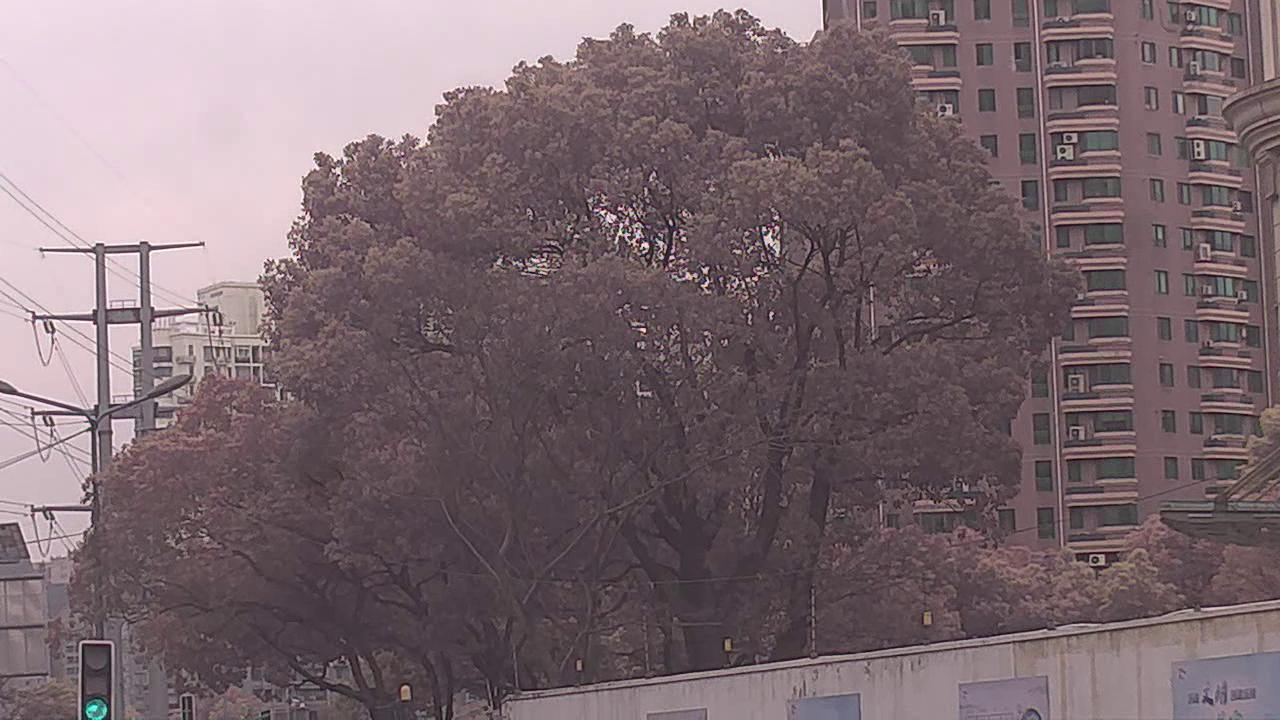traffic_light: (80, 637, 115, 720)
